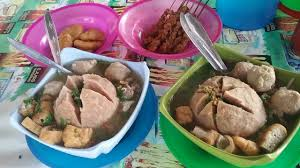bakso: (34, 49, 170, 146), (196, 53, 288, 158)
